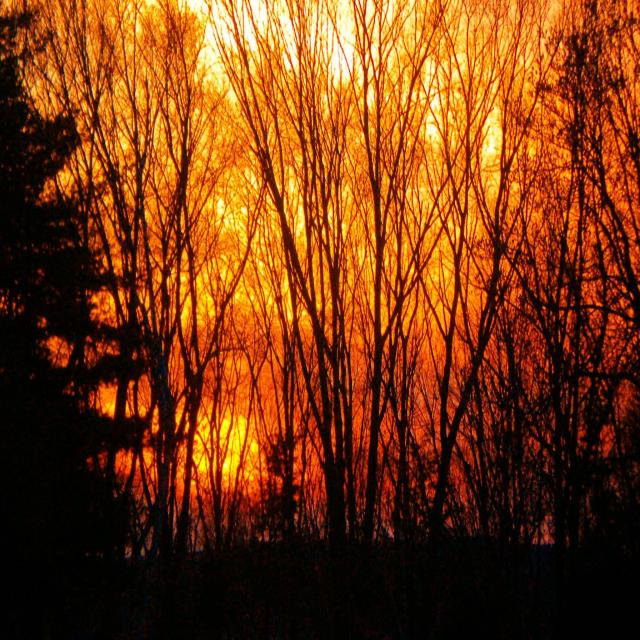Fire: (151, 0, 520, 161), (120, 379, 280, 510)
